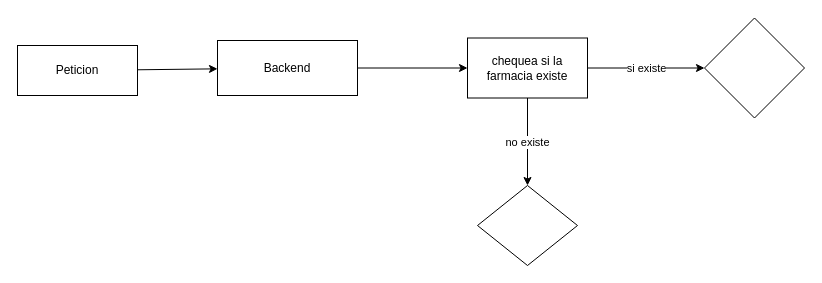
The diagram is 822 pixels wide and 283 high, and some of its shapes have lost their labels. Each missing label, with the box of its shape:
devuelve 401: (476, 184, 578, 266)
registra la peticion: (704, 17, 804, 118)
